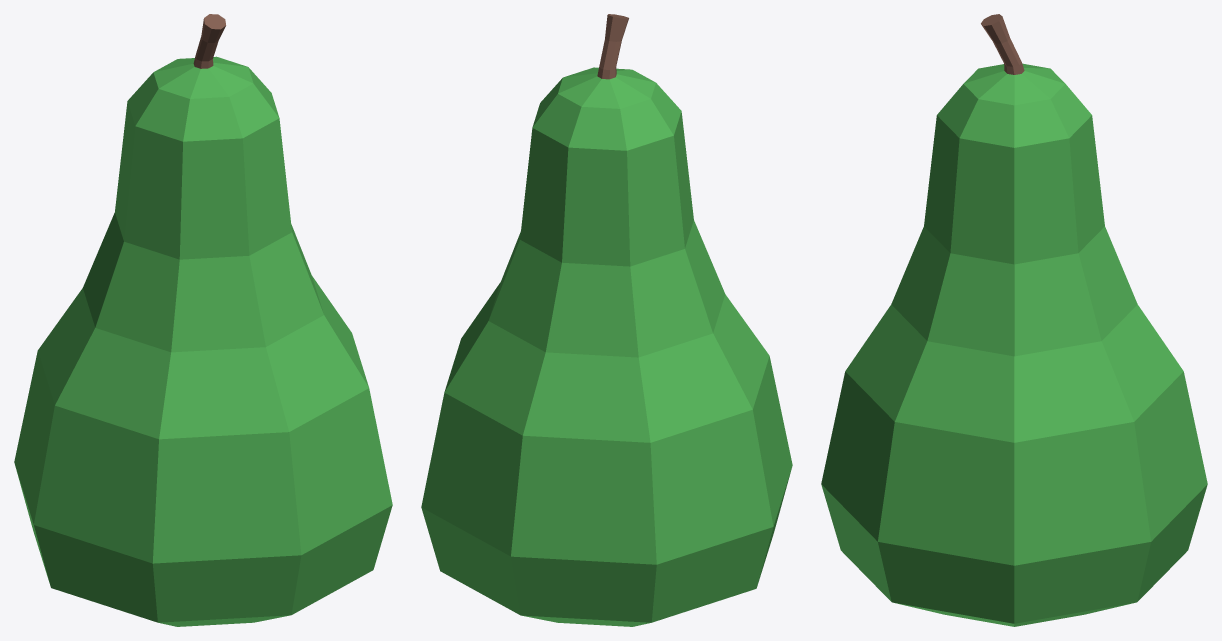
File: pear.glb
The picture shows the model from 3 angles, left to right: view 1: azimuth 30°, elevation 25°; view 2: azimuth 150°, elevation 25°; view 3: azimuth 270°, elevation 25°; orthographic projection.
Parts seen in each view (by area): view 1: node-0; view 2: node-0; view 3: node-0.
Part boxes in pixels (bbox=[...]): node-0: bbox=[14, 14, 392, 626]; node-0: bbox=[421, 14, 792, 626]; node-0: bbox=[821, 14, 1207, 626].
Bounding box in the file's own units: 7.69 × 12.64 × 7.69.
